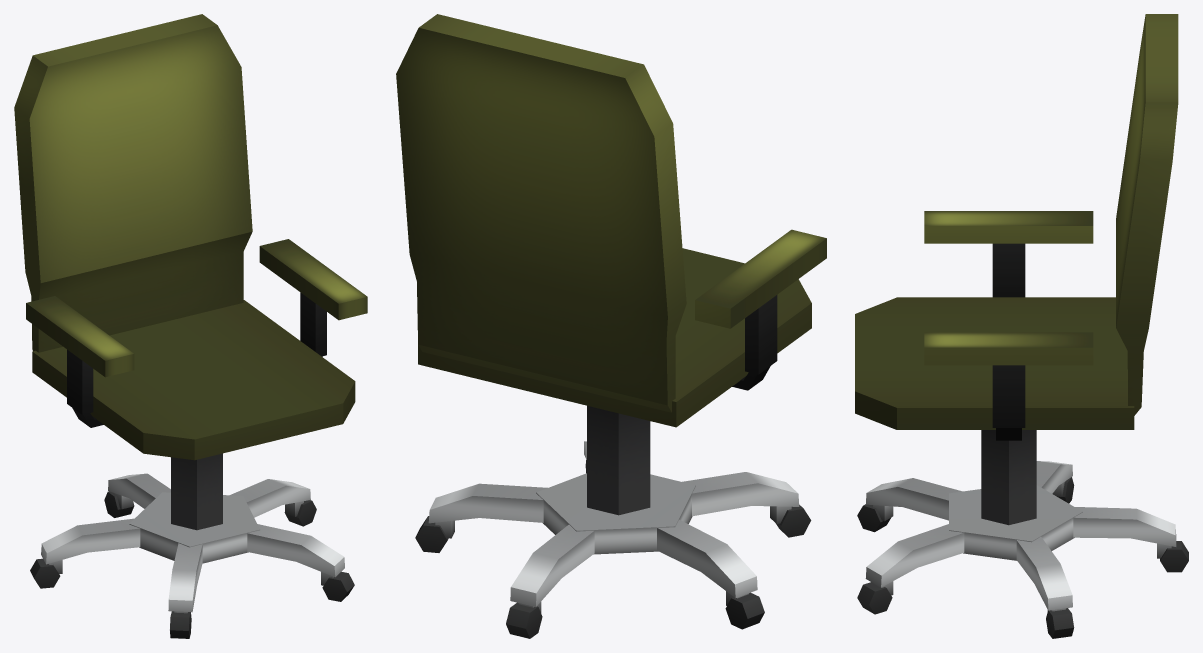
The model's file is Chair_Office_Olive.fbx.
3 views of the same model, side by side, from view 1: azimuth 30°, elevation 25°; view 2: azimuth 150°, elevation 25°; view 3: azimuth 270°, elevation 25° (orthographic). The views are drawn at different scales.
Parts seen in each view (by area): view 1: Chair_Office_Olive; view 2: Chair_Office_Olive; view 3: Chair_Office_Olive.
Boxes of the visible parts, x1,y1,x2,y2 form: Chair_Office_Olive: [14, 14, 367, 638]; Chair_Office_Olive: [396, 14, 826, 638]; Chair_Office_Olive: [855, 14, 1188, 638].
Size of the model in its own units: 69.71 by 112 by 66.73.
